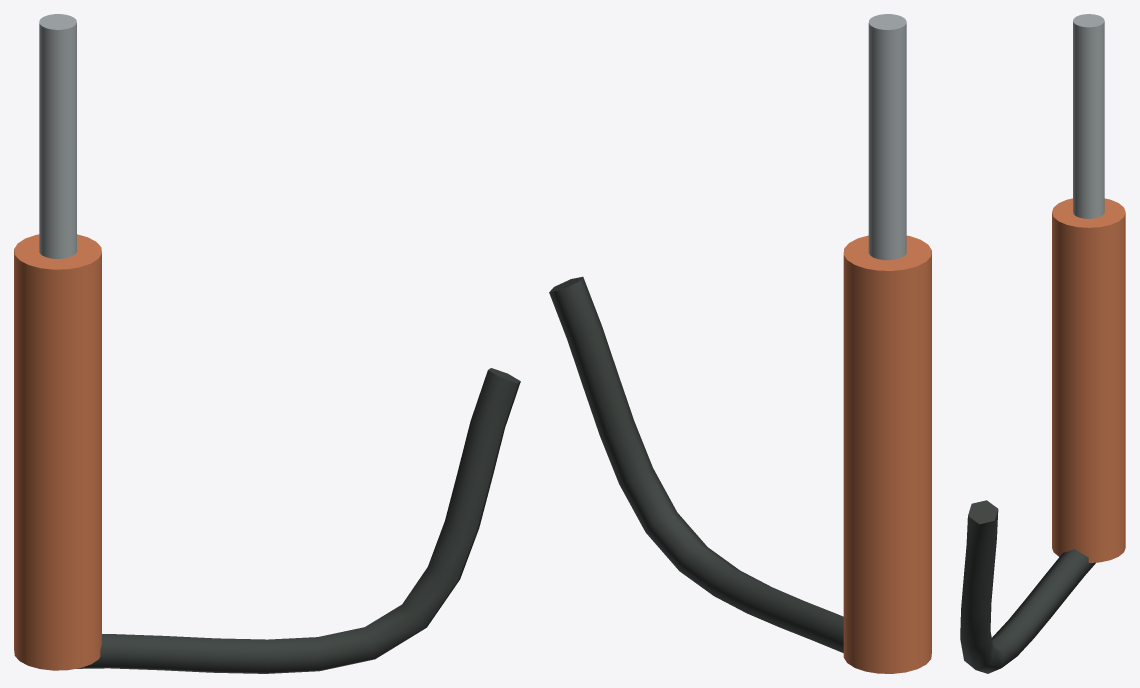
The model's file is salvage-and-repair-workshop-continuity-probe-cb1a5a56__25468.glb.
3 renders of one model, left to right at view 1: azimuth 30°, elevation 25°; view 2: azimuth 150°, elevation 25°; view 3: azimuth 270°, elevation 25°, orthographic. The views are drawn at different scales.
Visible parts, largest first — view 1: continuity-probe; view 2: continuity-probe; view 3: continuity-probe.
Boxes of the visible parts, left/top/right/bottom form: continuity-probe: left=14, top=14, right=520, bottom=673; continuity-probe: left=549, top=14, right=931, bottom=673; continuity-probe: left=960, top=14, right=1125, bottom=673.
Size of the model in its own units: 0.1592 by 0.2318 by 0.0627.
